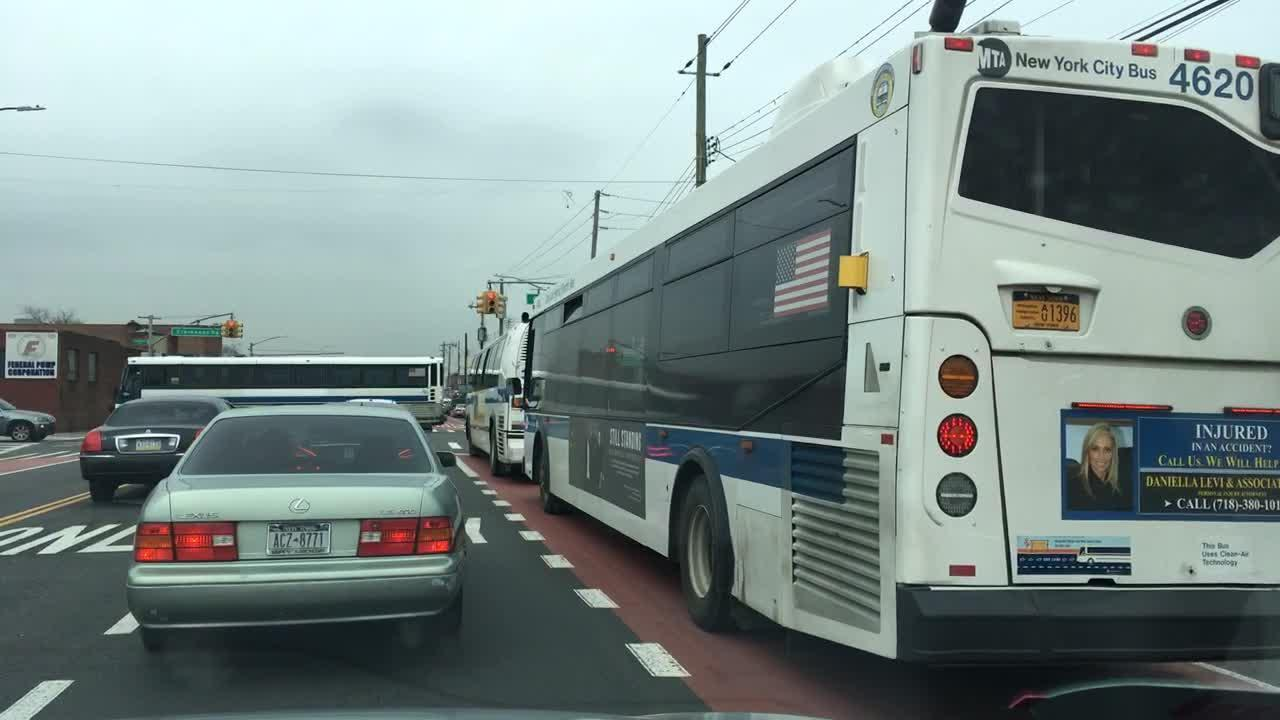lexus: (282, 490, 319, 523)
